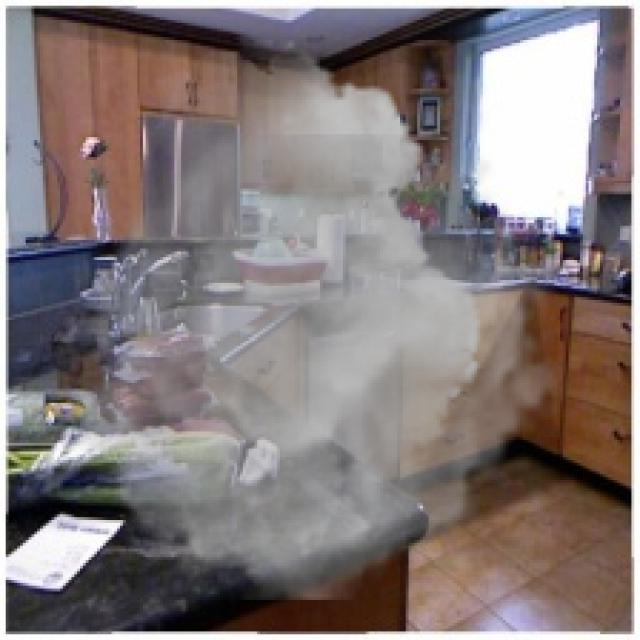smoke: (54, 40, 577, 600)
